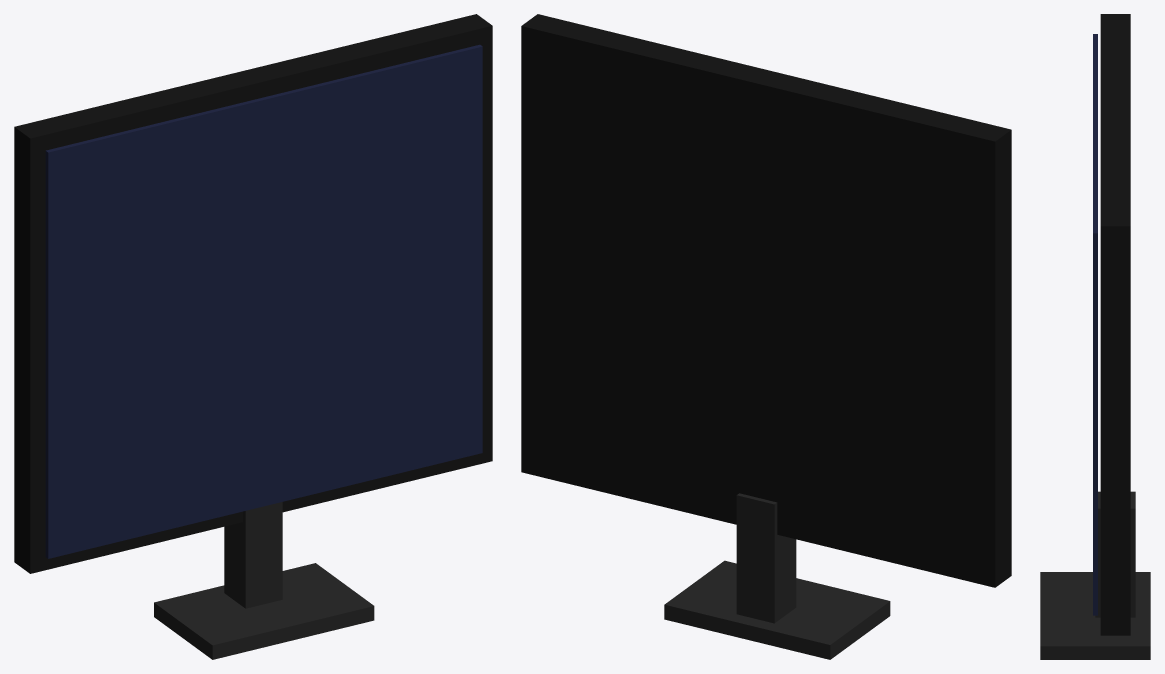
3 renders of one model, left to right at view 1: azimuth 30°, elevation 25°; view 2: azimuth 150°, elevation 25°; view 3: azimuth 270°, elevation 25°, orthographic. The views are drawn at different scales.
Visible parts, largest first — view 1: display, panel, base, neck; view 2: panel, base, neck; view 3: panel, base, display, neck.
Part boxes in pixels (x1=…): display: x1=45, y1=44, x2=482, y2=558; panel: x1=14, y1=14, x2=492, y2=573; base: x1=154, y1=563, x2=374, y2=659; neck: x1=224, y1=502, x2=282, y2=608; panel: x1=521, y1=14, x2=1011, y2=587; base: x1=664, y1=560, x2=890, y2=659; neck: x1=736, y1=493, x2=796, y2=623; panel: x1=1100, y1=14, x2=1130, y2=635; base: x1=1040, y1=572, x2=1150, y2=659; display: x1=1093, y1=34, x2=1097, y2=615; neck: x1=1095, y1=491, x2=1135, y2=617.
Bounding box in the file's own units: 1 × 1.1 × 0.22.
